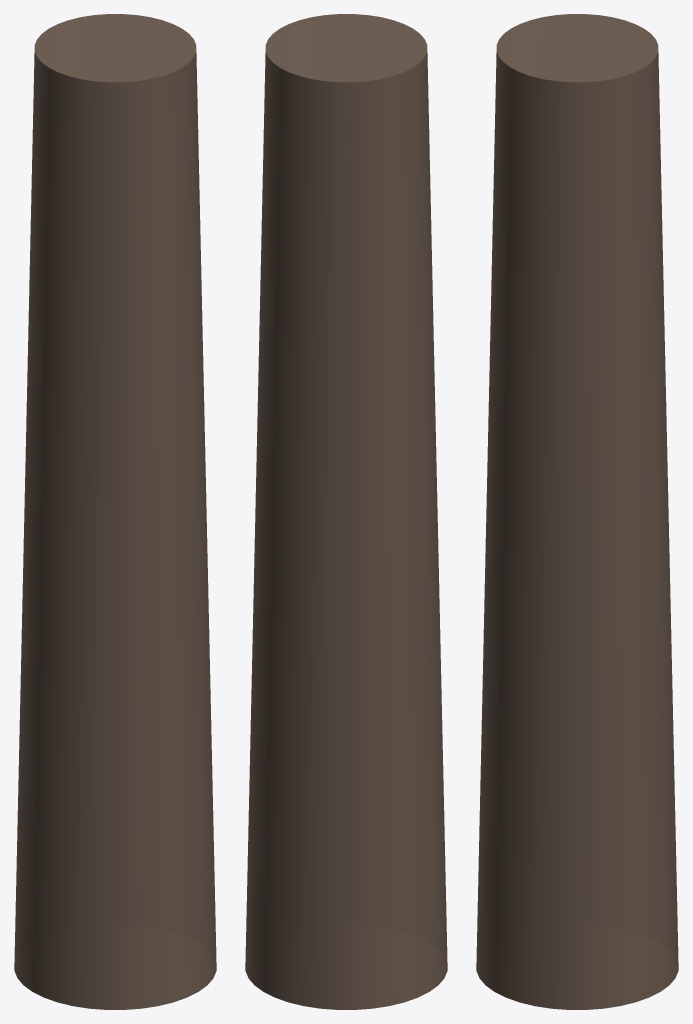
The model's file is fractaltree0.glb.
3 renders of one model, left to right at view 1: azimuth 30°, elevation 25°; view 2: azimuth 150°, elevation 25°; view 3: azimuth 270°, elevation 25°, orthographic.
Bounding box in the file's own units: 0.6874 × 3.45 × 0.6874.
